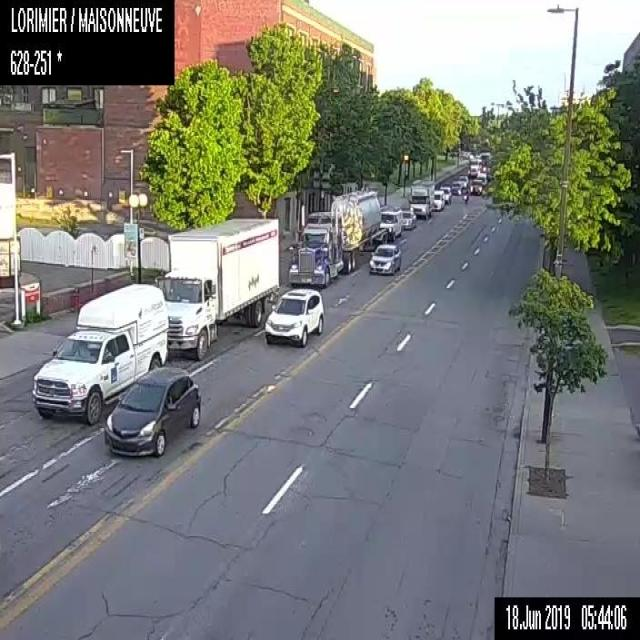vehicle: (31, 283, 168, 424), (154, 217, 278, 357), (288, 189, 386, 287), (103, 367, 199, 456), (264, 286, 323, 345), (368, 243, 400, 274), (408, 179, 433, 218), (378, 206, 402, 240), (401, 208, 415, 228), (433, 188, 444, 210), (468, 178, 482, 195), (439, 185, 451, 204), (467, 158, 479, 177), (450, 179, 461, 194), (457, 174, 468, 187), (477, 171, 487, 184), (463, 188, 468, 203)
